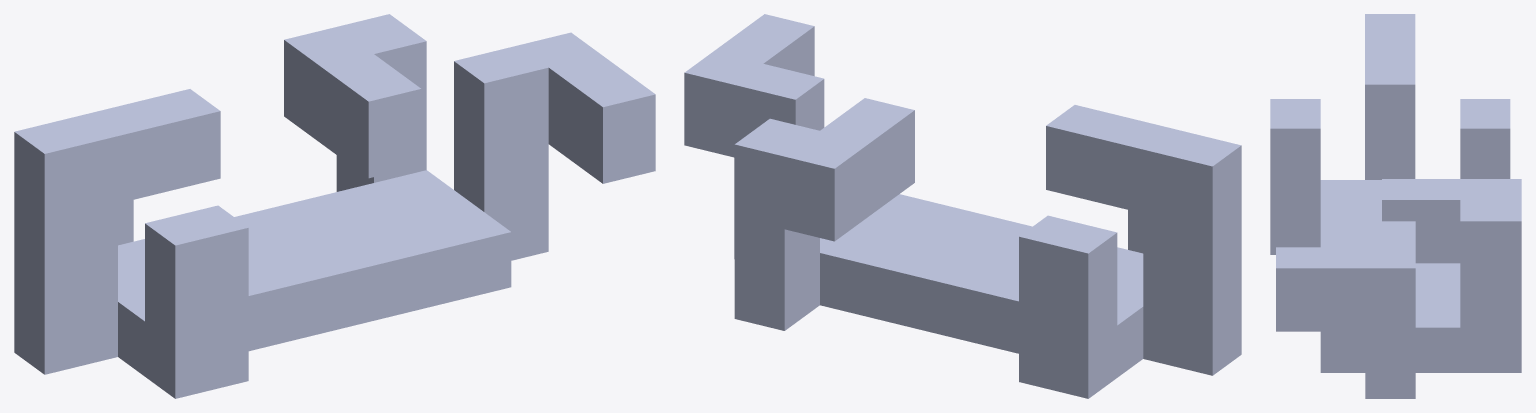
3 renders of one model, left to right at view 1: azimuth 30°, elevation 25°; view 2: azimuth 150°, elevation 25°; view 3: azimuth 270°, elevation 25°, orthographic. The views are drawn at different scales.
Parts seen in each view (by area): view 1: mesh_1_Long-1; view 2: mesh_1_Long-1; view 3: mesh_1_Long-1.
Part boxes in pixels (box(x1,y1,x2,y2)): mesh_1_Long-1: box(14, 14, 655, 398); mesh_1_Long-1: box(684, 14, 1241, 398); mesh_1_Long-1: box(1270, 14, 1521, 398).
Size of the model in its own units: 0.19 by 0.072 by 0.09.
